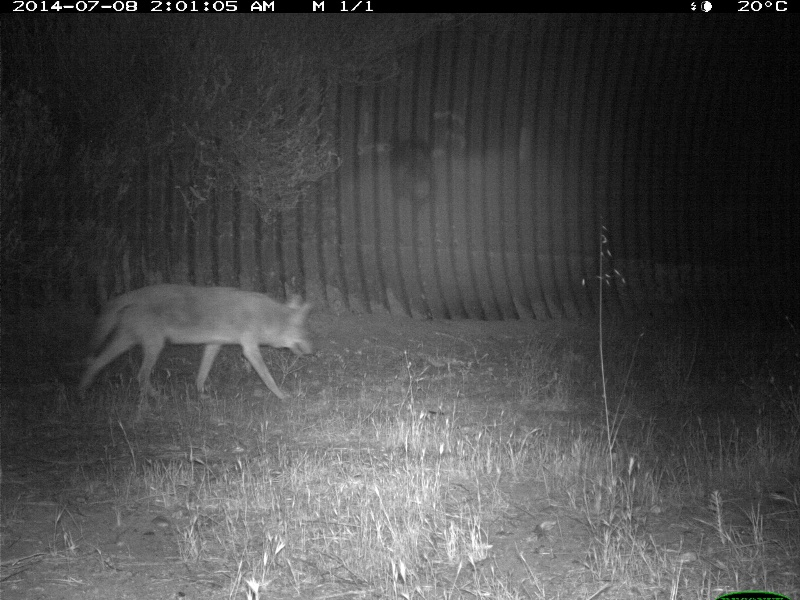coyote: (75, 282, 318, 411)
